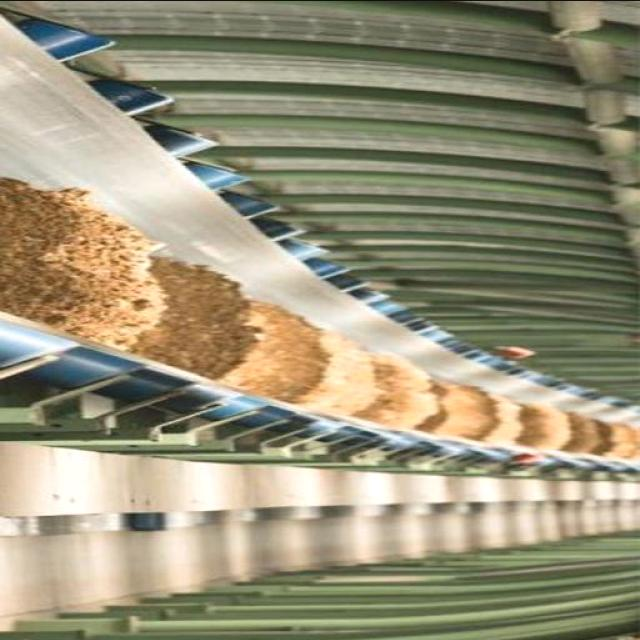conveyor: (0, 9, 640, 469)
